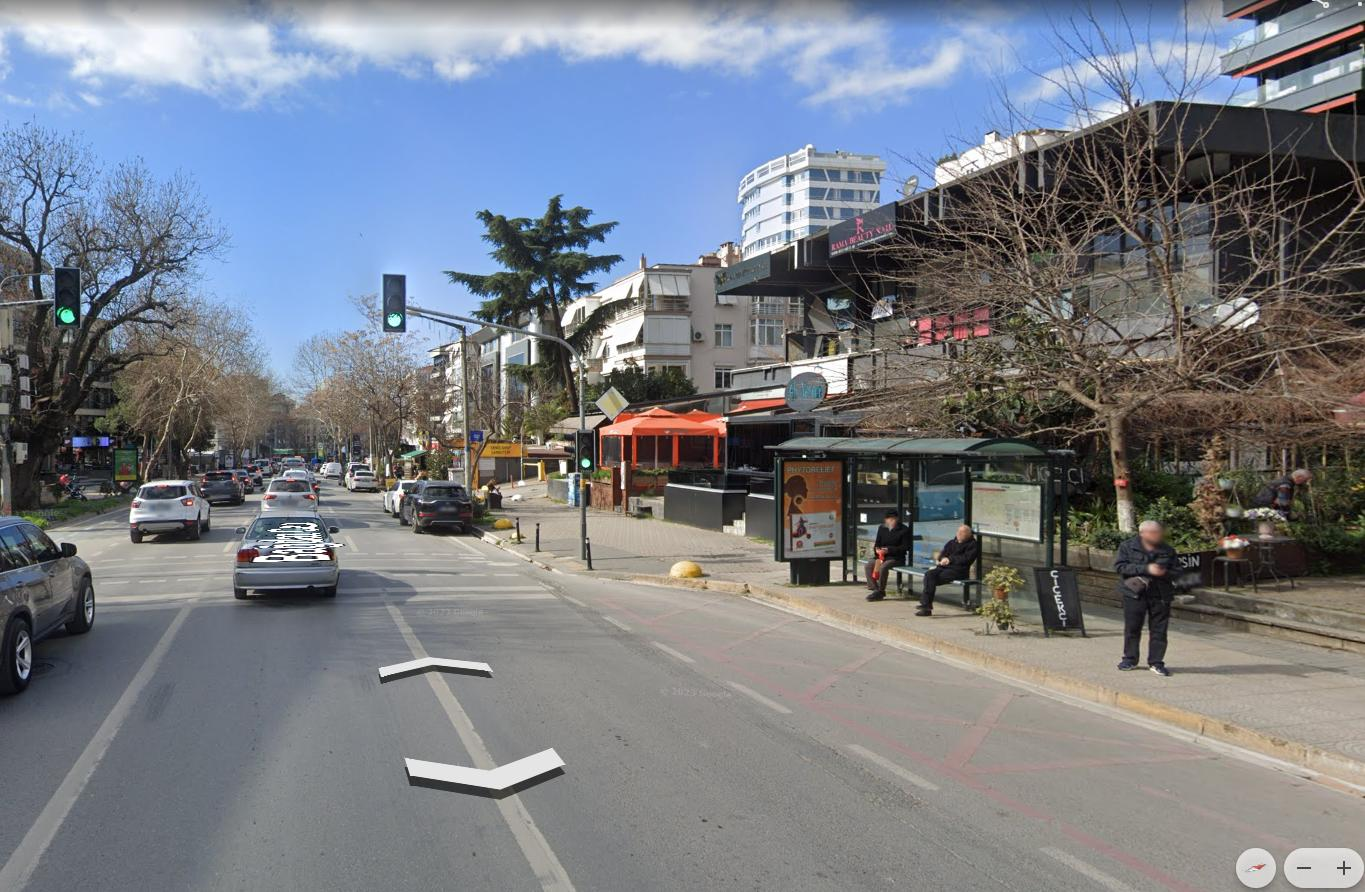greenlight: (52, 267, 79, 327), (384, 270, 406, 331), (577, 430, 597, 475)
